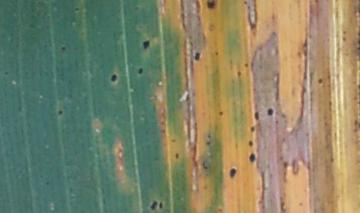tarspot: (227, 166, 237, 180), (142, 38, 152, 51), (206, 1, 219, 10), (109, 71, 118, 84), (248, 152, 257, 164), (149, 199, 158, 211), (193, 51, 201, 62), (254, 109, 260, 122), (247, 137, 254, 148), (137, 66, 145, 75), (267, 107, 274, 117), (158, 201, 165, 211), (57, 109, 64, 119), (60, 44, 67, 54), (217, 109, 225, 117), (235, 69, 242, 78), (281, 161, 288, 169), (204, 140, 212, 147), (250, 125, 256, 134), (174, 152, 180, 161), (213, 50, 220, 57), (318, 77, 324, 85), (244, 62, 249, 69)
